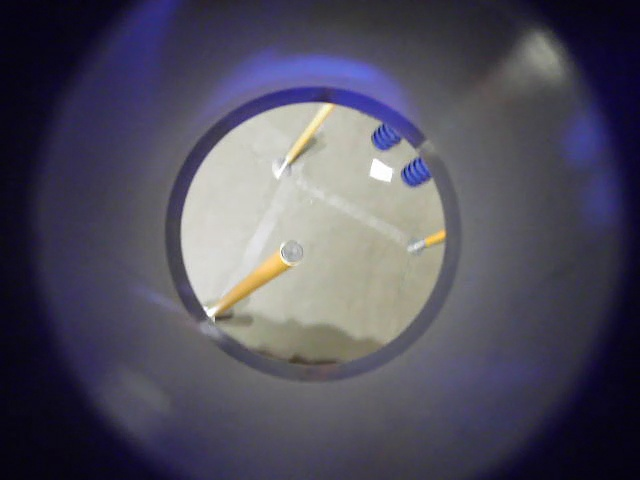tip: (260, 234, 313, 279)
